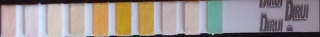color 1: (2, 7, 14, 34)
color 10: (209, 4, 221, 31)
color 2: (26, 7, 37, 34)
color 3: (49, 6, 60, 34)
color 4: (72, 6, 83, 33)
color 5: (95, 5, 107, 33)
color 6: (118, 4, 129, 33)
color 7: (141, 4, 152, 33)
color 8: (163, 4, 174, 32)
color 9: (186, 4, 198, 32)
